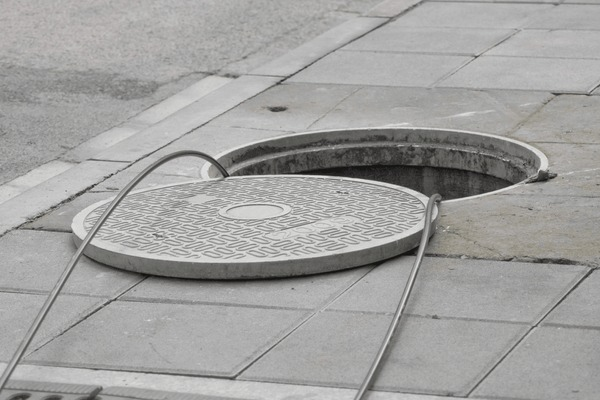open_manhole: (203, 118, 549, 198)
